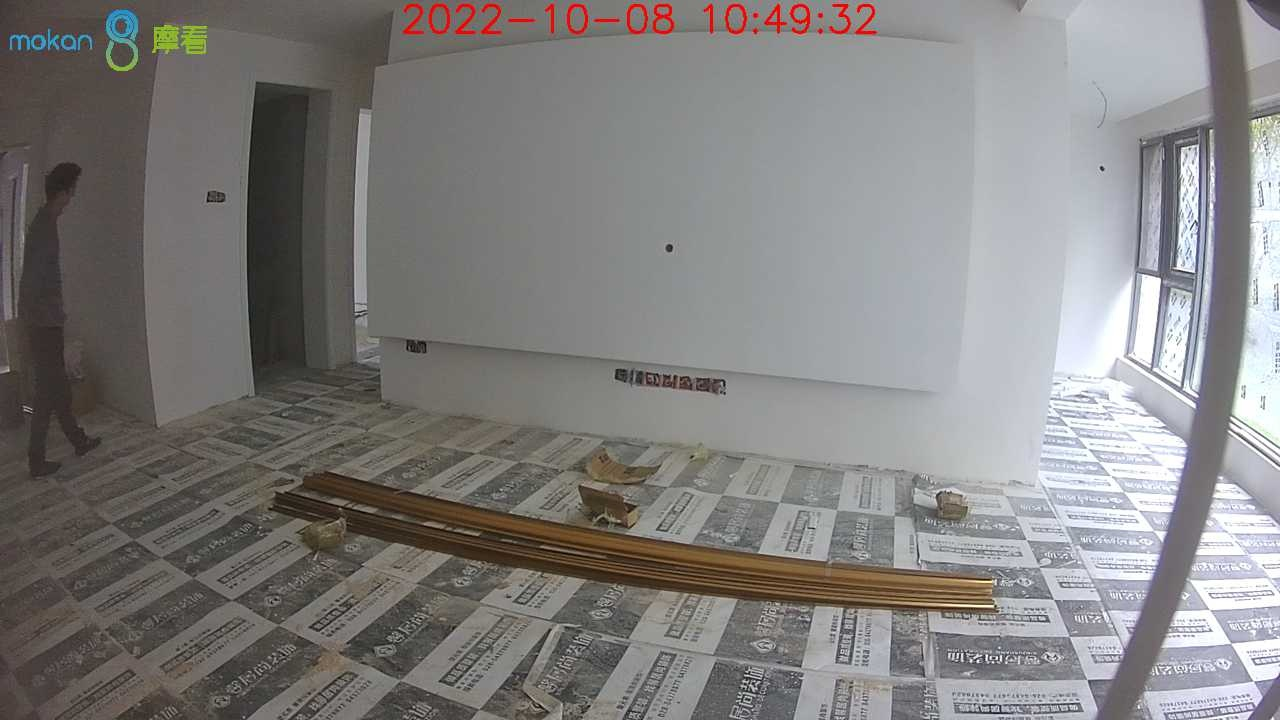people: (20, 163, 99, 476)
window: (1127, 133, 1280, 458)
